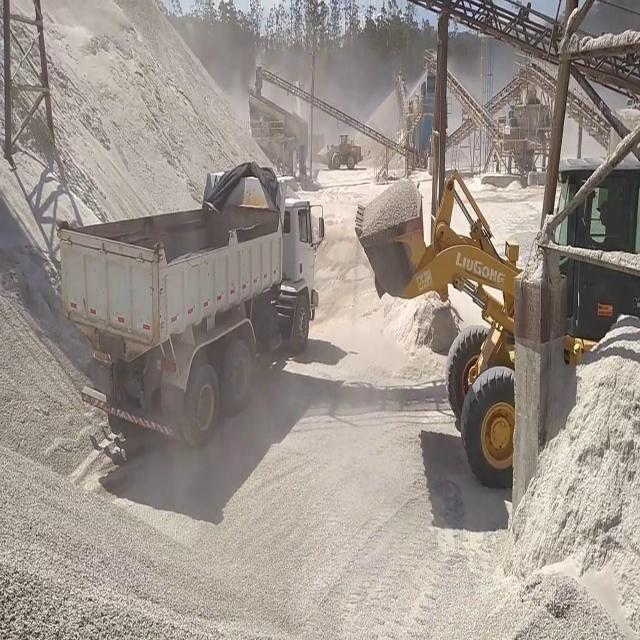buldozerpayloadergrader: (353, 155, 640, 489), (316, 134, 362, 171)
dump_truck: (57, 168, 325, 444)
